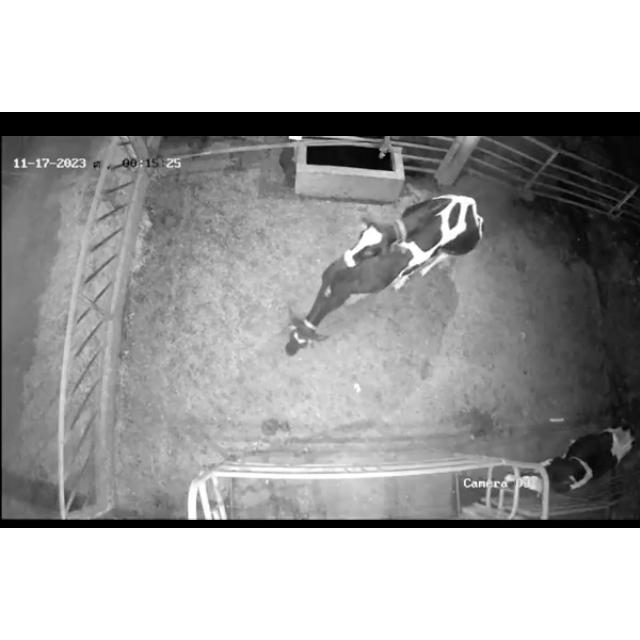ride: (339, 186, 499, 300)
